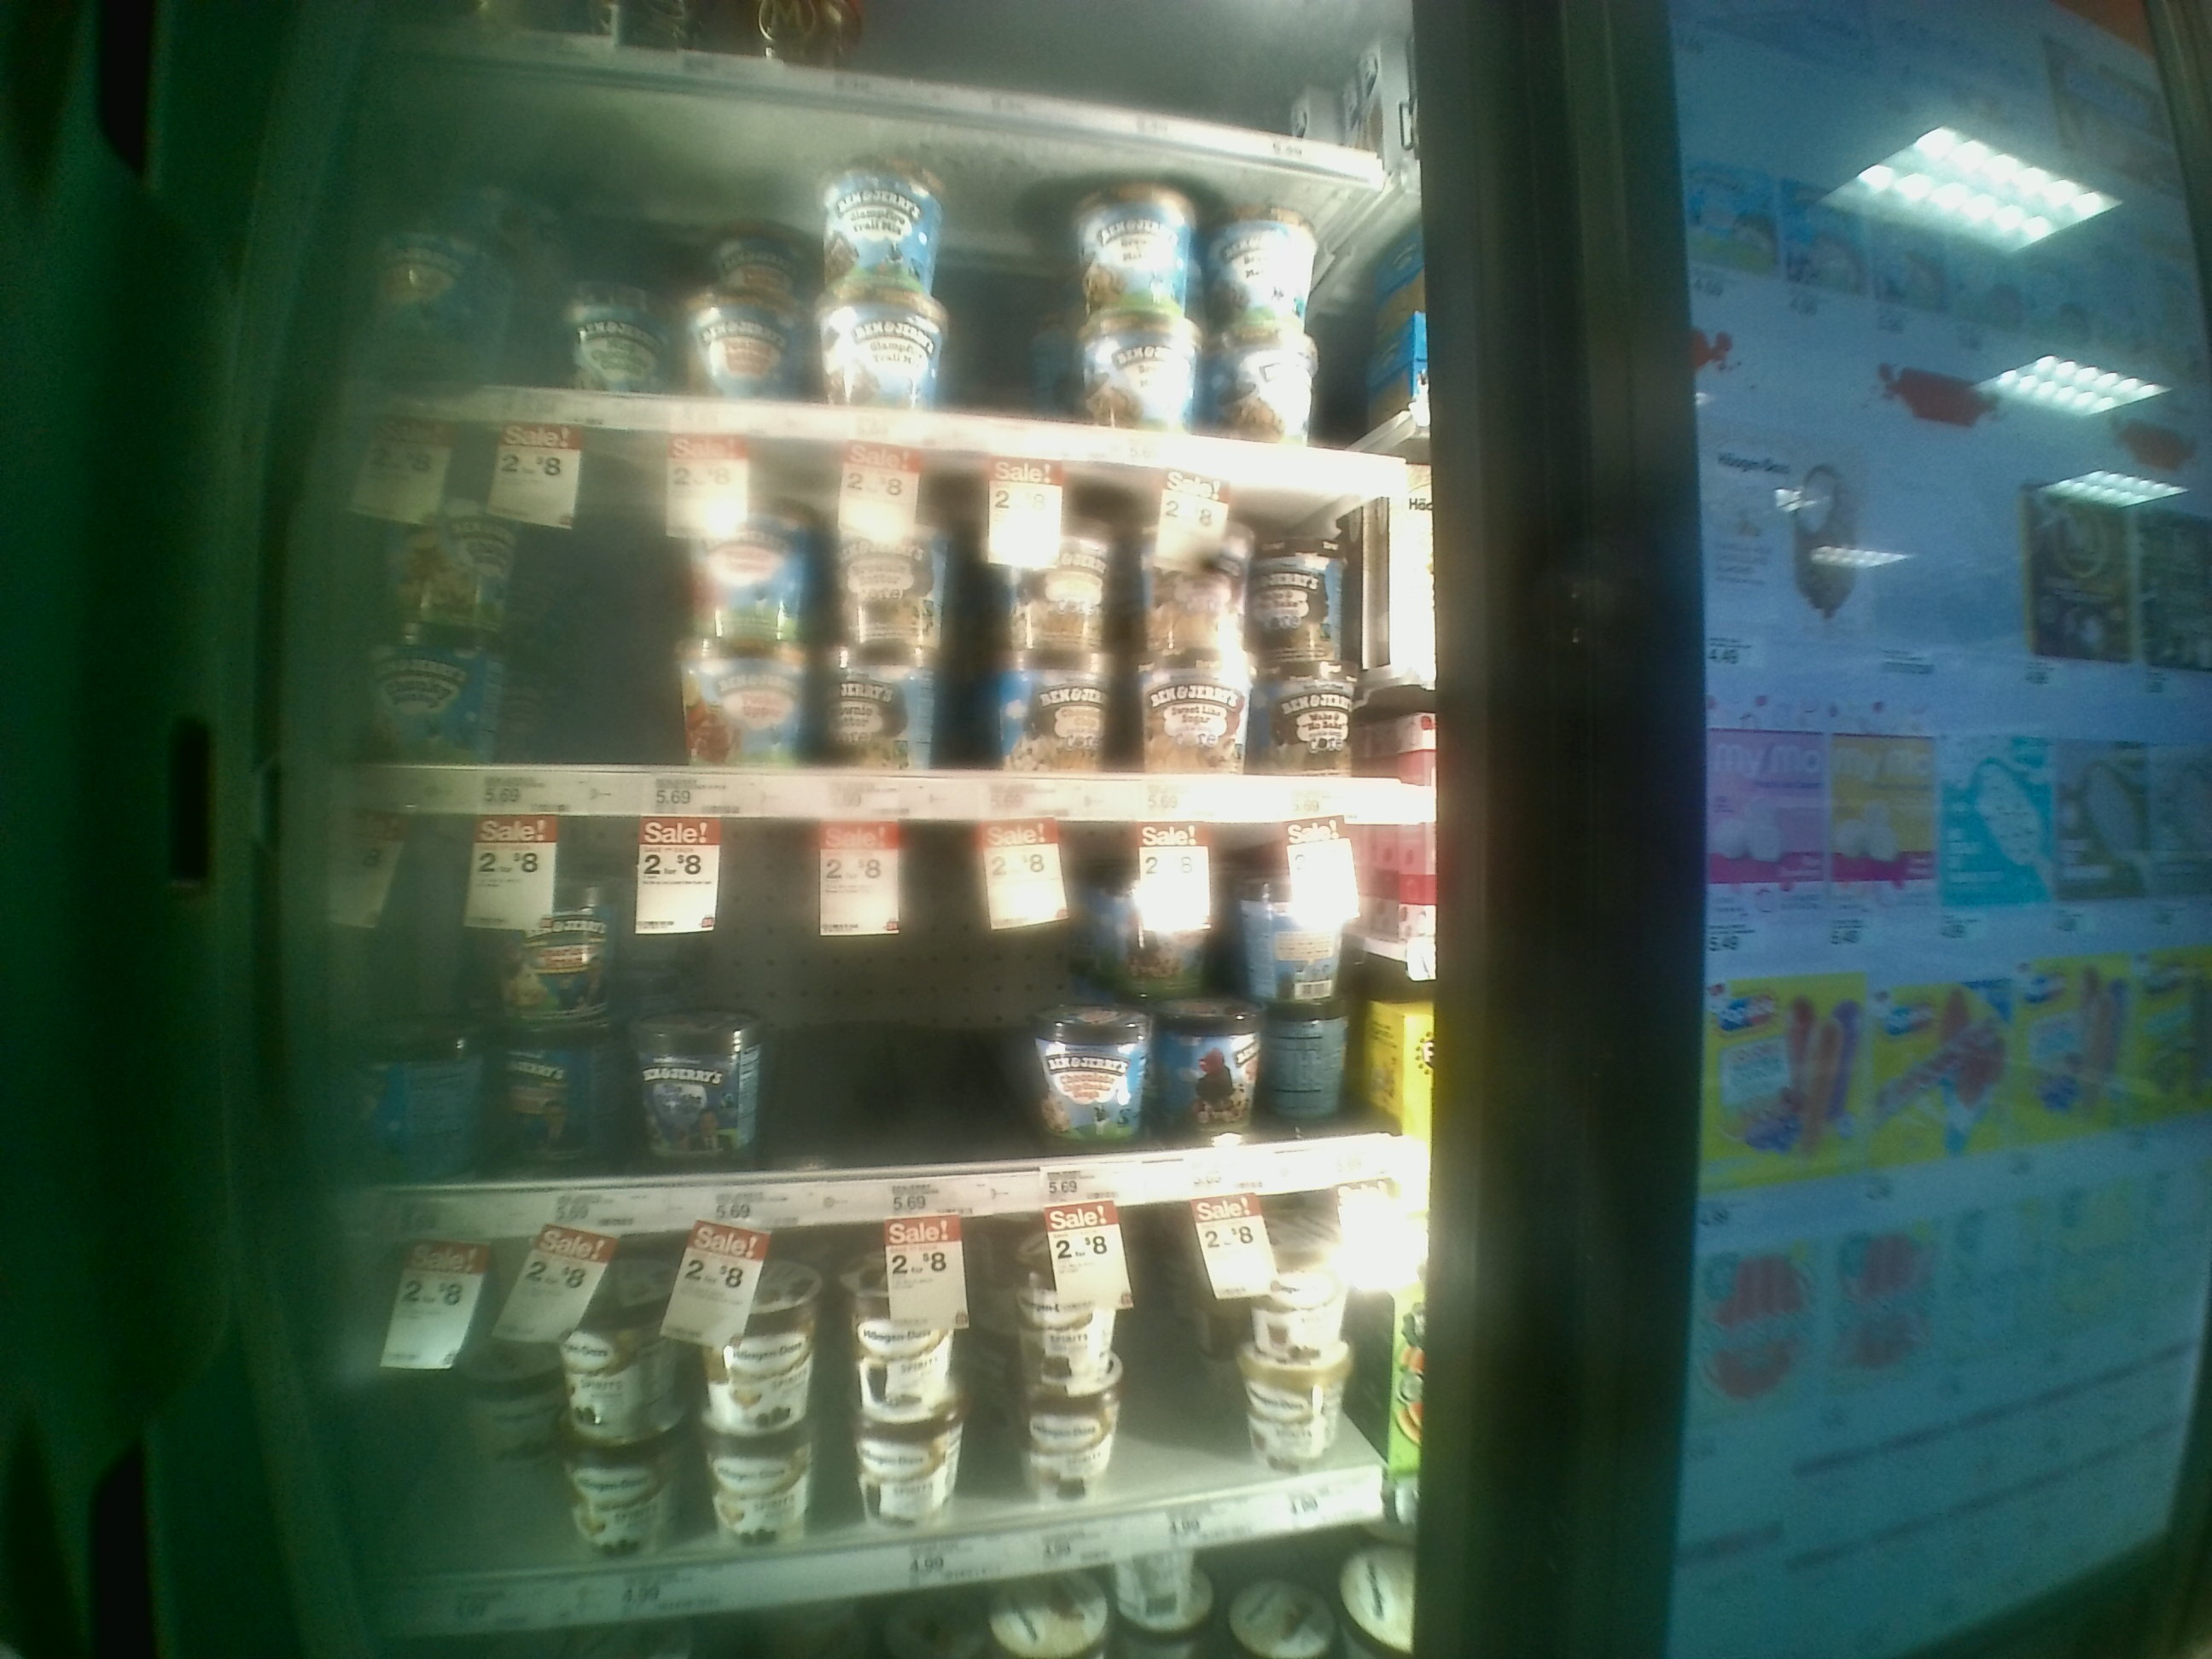shelf: (334, 416, 1433, 823), (334, 817, 1374, 1246)
